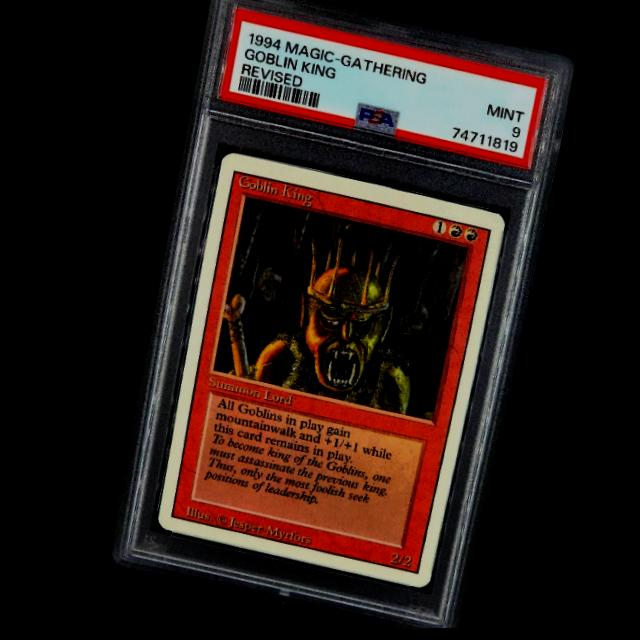card: (146, 150, 504, 594)
psa_label: (214, 7, 544, 172)
psa_slab: (100, 0, 574, 632)
